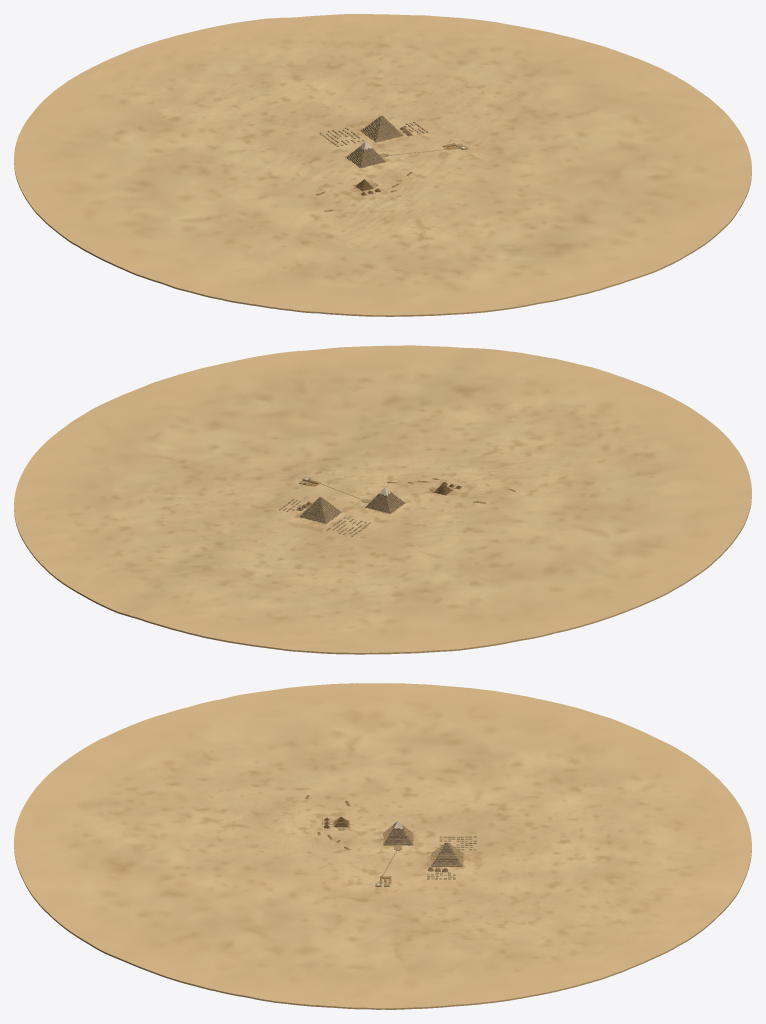
Rendered from giza.glb.
The picture shows the model from 3 angles, top to bottom: view 1: azimuth 30°, elevation 25°; view 2: azimuth 150°, elevation 25°; view 3: azimuth 270°, elevation 25°; orthographic projection.
Visible parts, largest first — view 1: GizaGround, GizaPyramids, Giza; view 2: GizaGround, GizaPyramids, Giza; view 3: GizaGround, GizaPyramids, Giza.
Boxes of the visible parts, x1,y1,x2,y2 form: GizaGround: (14,14,751,316); GizaPyramids: (346,115,412,195); Giza: (316,122,467,211); GizaGround: (14,345,751,654); GizaPyramids: (296,482,460,523); Giza: (279,477,515,536); GizaGround: (14,683,751,1009); GizaPyramids: (324,816,462,872); Giza: (305,795,476,886).
Bounding box in the file's own units: 5200 × 215 × 5200.
Materials: 6 (4 with a texture image).
